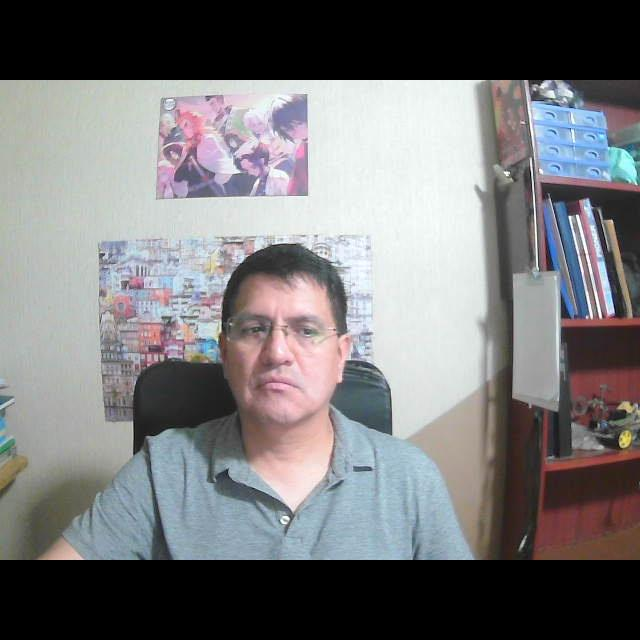cesar: (202, 230, 370, 458)
